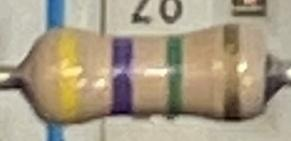Blue: (109, 33, 137, 117)
Green: (164, 32, 188, 114)
Side-Silver: (221, 21, 244, 119)
Yellow: (58, 26, 84, 125)
